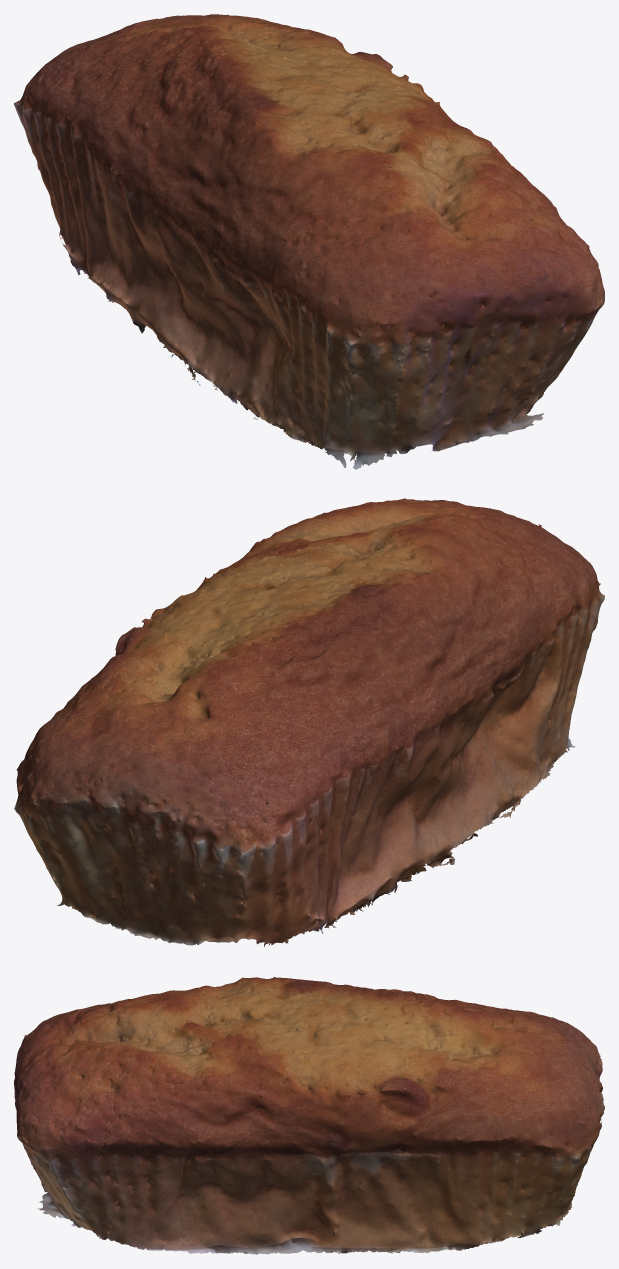
File: metashape_m.glb
The picture shows the model from 3 angles, top to bottom: view 1: azimuth 30°, elevation 25°; view 2: azimuth 150°, elevation 25°; view 3: azimuth 270°, elevation 25°; orthographic projection. The views are drawn at different scales.
Parts seen in each view (by area): view 1: normalize; view 2: normalize; view 3: normalize.
Part boxes in pixels (x1,y1,x2,y2): normalize: [14, 14, 604, 469]; normalize: [14, 498, 604, 946]; normalize: [14, 977, 604, 1254].
Size of the model in its own units: 0.1362 by 0.1164 by 0.3.
Materials: 1 (1 with a texture image).
